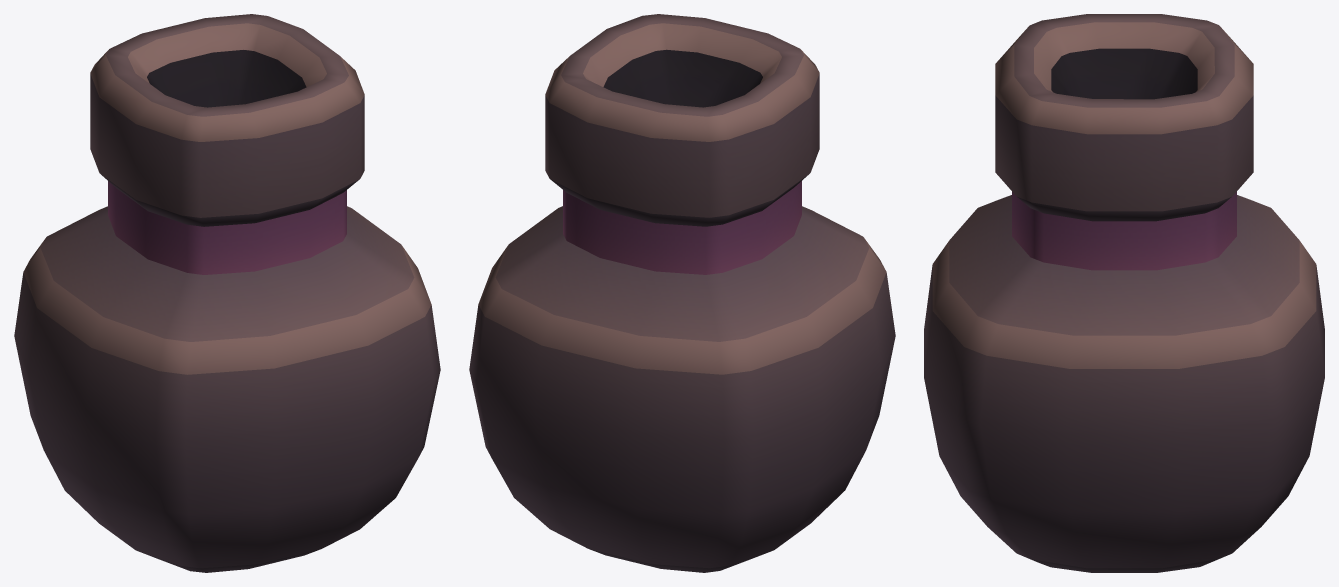
The model's file is pot_4.fbx.
The picture shows the model from 3 angles, left to right: view 1: azimuth 30°, elevation 25°; view 2: azimuth 150°, elevation 25°; view 3: azimuth 270°, elevation 25°; orthographic projection.
Parts seen in each view (by area): view 1: pot_4; view 2: pot_4; view 3: pot_4.
Boxes of the visible parts, x1=… form: pot_4: x1=14, y1=14, x2=440, y2=572; pot_4: x1=469, y1=14, x2=895, y2=572; pot_4: x1=924, y1=14, x2=1324, y2=572.
Size of the model in its own units: 78.99 by 105 by 78.91.
